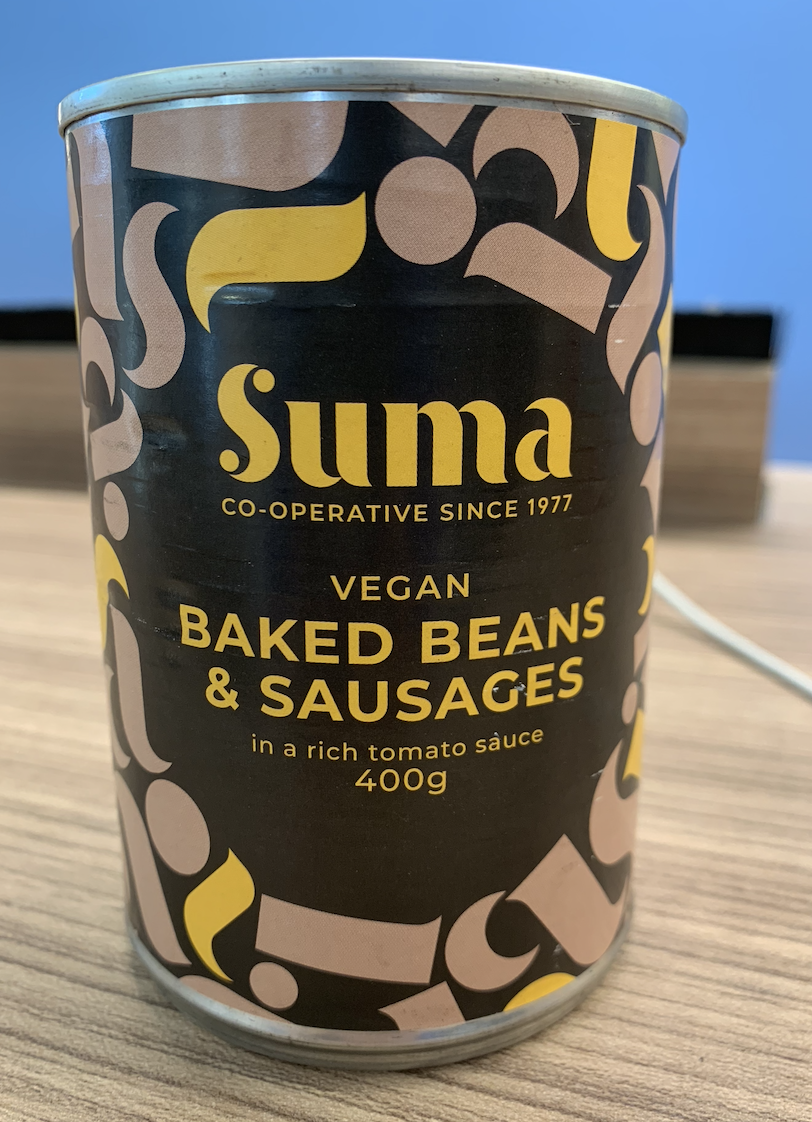Baked beans_400-499g: (106, 153, 646, 990)
